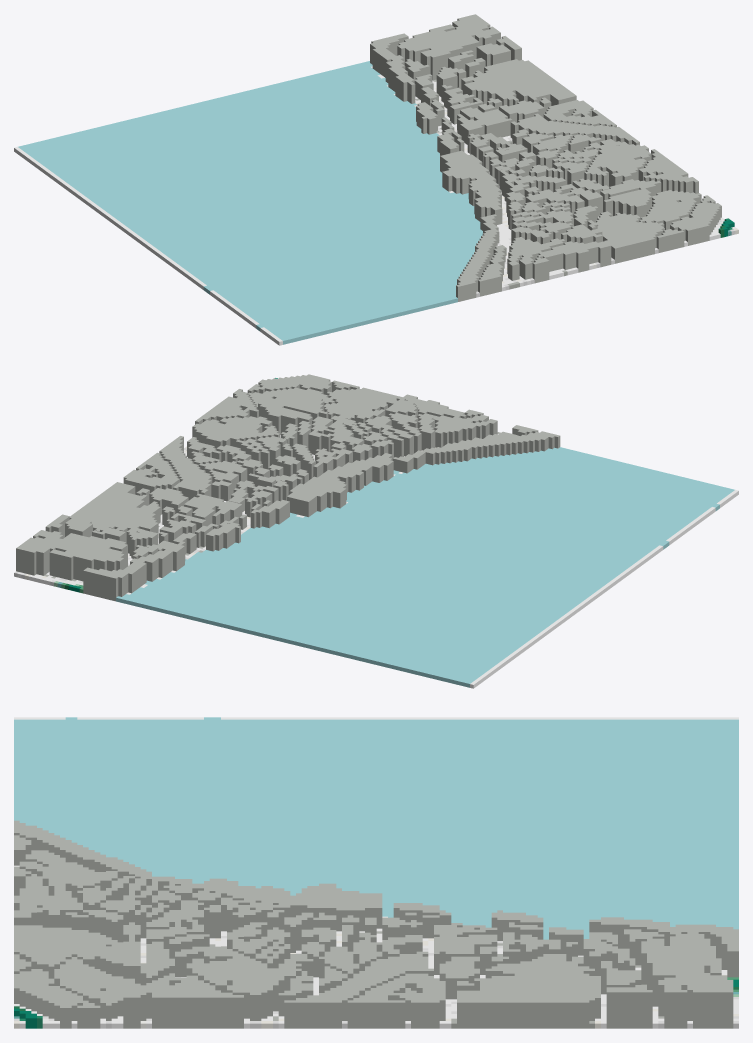
File: 210508macau-12.obj
3 renders of one model, top to bottom at view 1: azimuth 30°, elevation 25°; view 2: azimuth 150°, elevation 25°; view 3: azimuth 270°, elevation 25°, orthographic. The views are drawn at different scales.
Bounding box in the file's own units: 12.6 × 0.7 × 12.6.
Materials: 1 (1 with a texture image).
